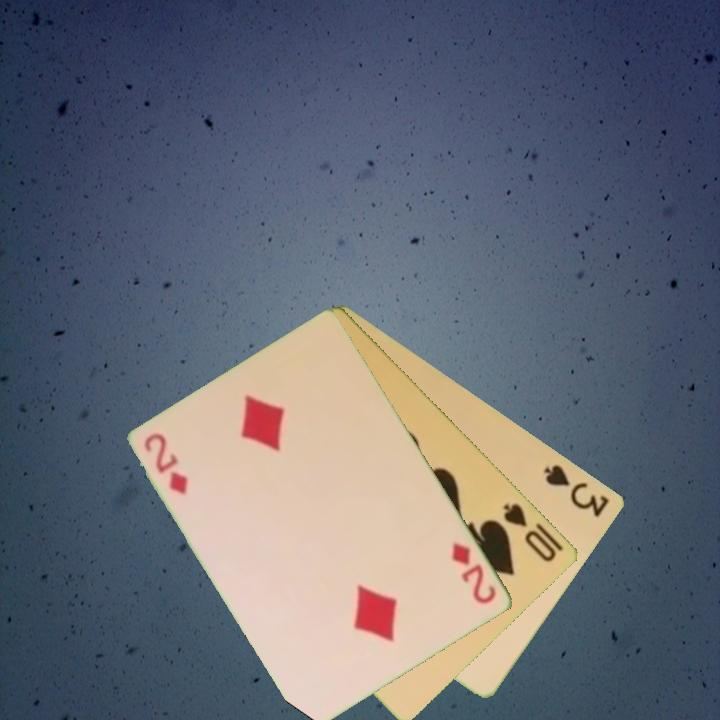10s: (500, 499, 560, 565)
2d: (449, 539, 500, 607), (141, 429, 192, 497)
3s: (541, 460, 613, 520)
